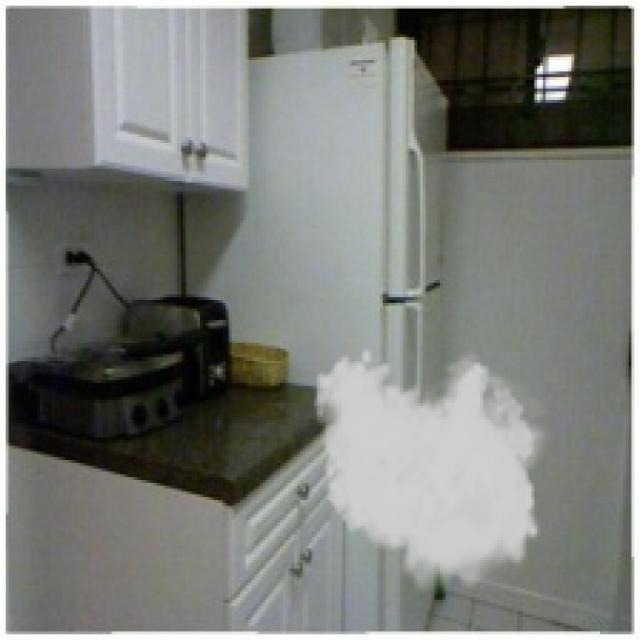smoke: (312, 346, 554, 600)
